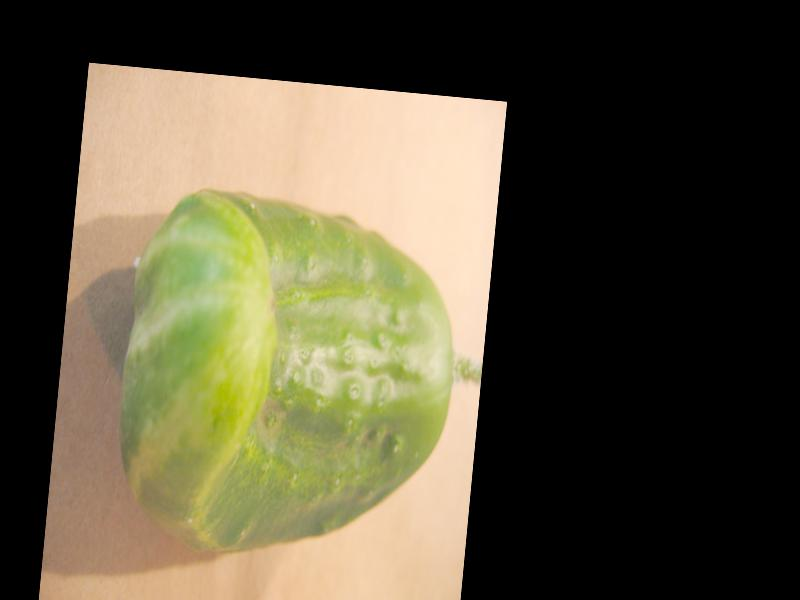Cucumber: (108, 179, 469, 568)
